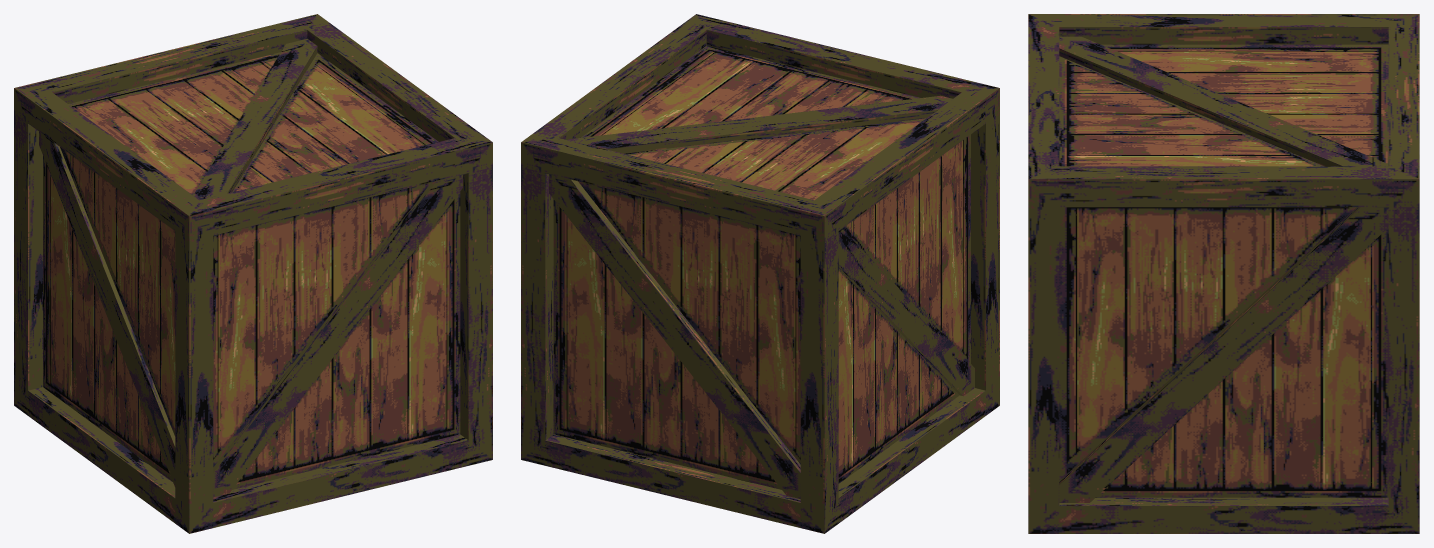
The model's file is Wooden Crate 1.fbx.
3 renders of one model, left to right at view 1: azimuth 30°, elevation 25°; view 2: azimuth 150°, elevation 25°; view 3: azimuth 270°, elevation 25°, orthographic. The views are drawn at different scales.
Parts seen in each view (by area): view 1: Cube.008; view 2: Cube.008; view 3: Cube.008.
Boxes of the visible parts, <box> form: Cube.008: <box>14,14,492,533</box>; Cube.008: <box>521,14,999,533</box>; Cube.008: <box>1028,14,1419,533</box>.
Size of the model in its own units: 200 by 200 by 200.
